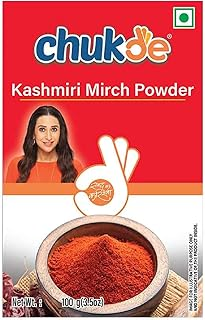Chilli Powder: (1, 3, 205, 320)
